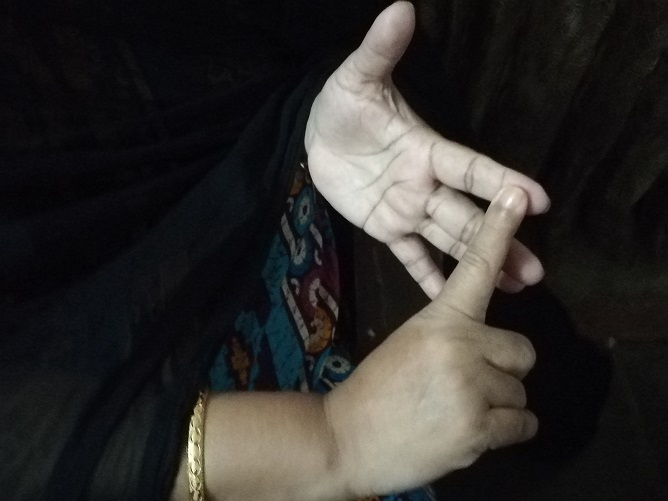o: (319, 75, 548, 403)
